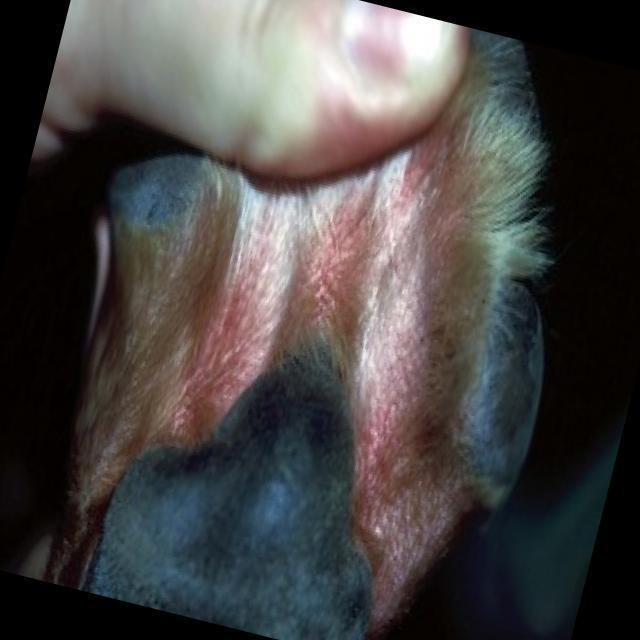allergic dermatitis: (188, 214, 264, 448), (363, 359, 414, 608), (407, 130, 472, 324), (295, 198, 348, 374)
